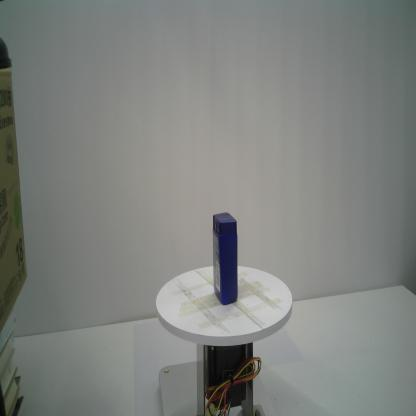Personal Hygiene: (212, 211, 239, 306)
